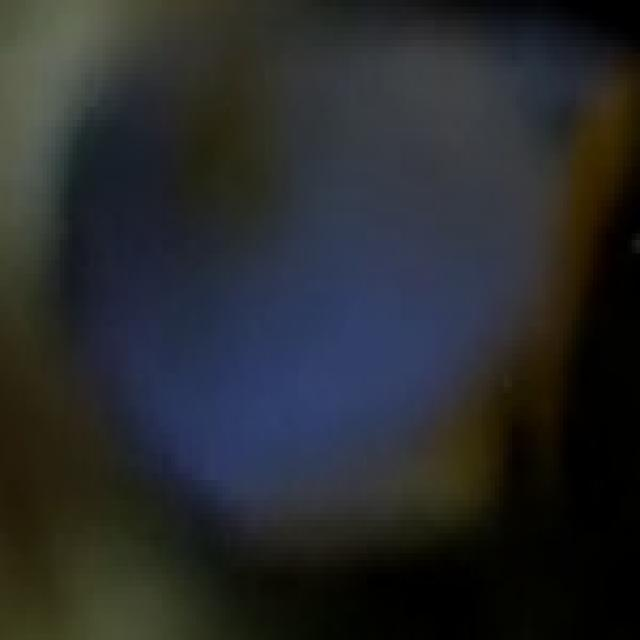fish: (4, 0, 639, 634)
